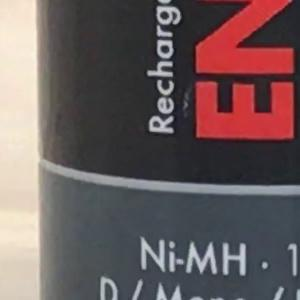keyword: (132, 233, 255, 281)
